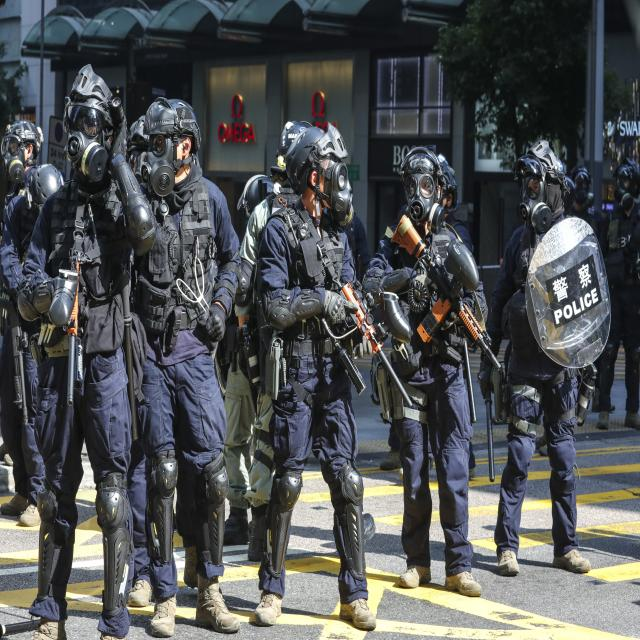police: (226, 113, 398, 640), (479, 106, 640, 603), (13, 48, 128, 640), (364, 120, 498, 618), (121, 81, 232, 640), (0, 82, 67, 529)
